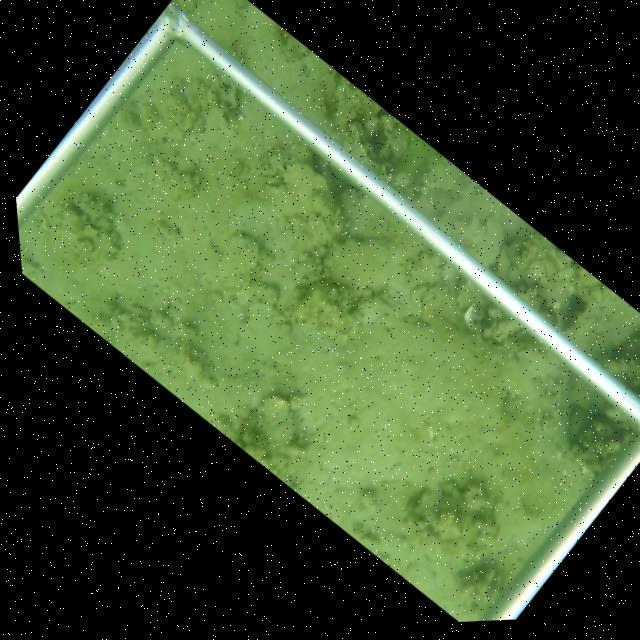Oyster-Indeterminate: (317, 235, 393, 305), (232, 299, 295, 376), (198, 228, 262, 295), (236, 390, 299, 456), (282, 156, 336, 218)
